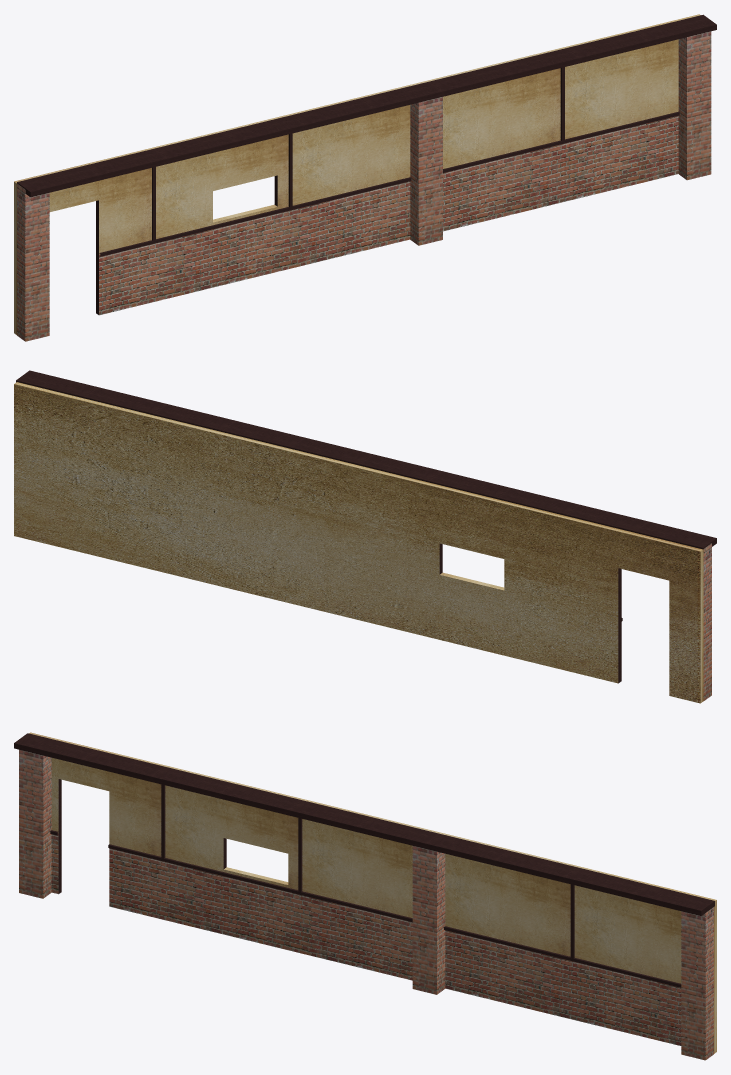
Rendered from Wall 3.FBX.
The picture shows the model from 3 angles, top to bottom: view 1: azimuth 30°, elevation 25°; view 2: azimuth 150°, elevation 25°; view 3: azimuth 330°, elevation 25°; orthographic projection.
Parts seen in each view (by area): view 1: wall 3; view 2: wall 3; view 3: wall 3.
Part boxes in pixels (box(x1,y1,x2,y2)): wall 3: box(14, 14, 716, 341); wall 3: box(14, 370, 716, 703); wall 3: box(14, 732, 716, 1060).
Size of the model in its own units: 1416 by 302 by 58.95.
Materials: 3 (3 with a texture image).
